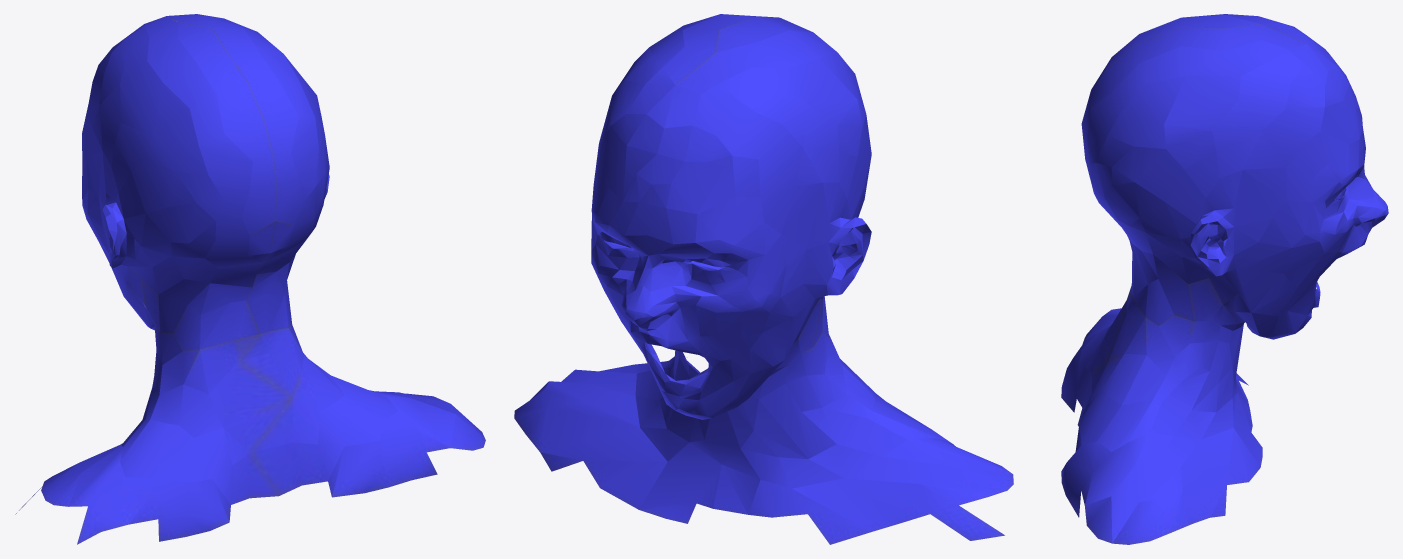
The model's file is cabezaGigante.glb.
3 views of the same model, side by side, from view 1: azimuth 30°, elevation 25°; view 2: azimuth 150°, elevation 25°; view 3: azimuth 270°, elevation 25° (orthographic). The views are drawn at different scales.
Visible parts, largest first — view 1: Mesh; view 2: Mesh; view 3: Mesh.
Part boxes in pixels (x1,y1,x2,y2): Mesh: [15, 14, 485, 544]; Mesh: [514, 14, 1013, 544]; Mesh: [1061, 14, 1388, 544].
Size of the model in its own units: 8.67 by 7.94 by 5.64.
Materials: 1 (1 with a texture image).
